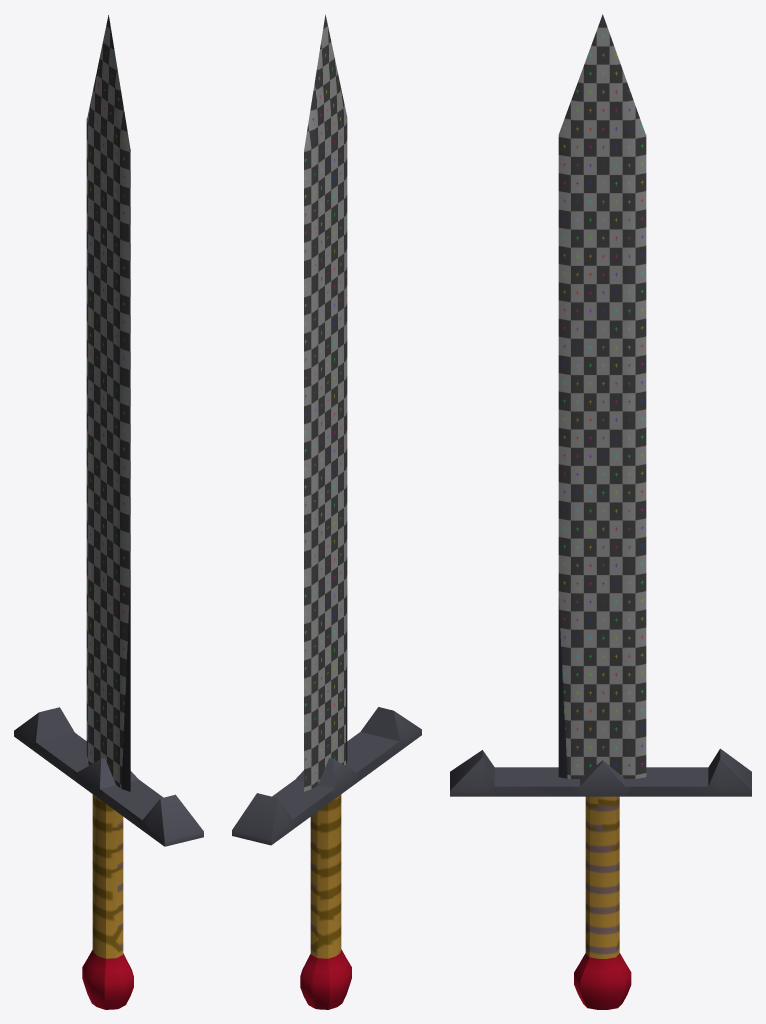
The model's file is blueSwordWithTexture.fbx.
3 views of the same model, side by side, from view 1: azimuth 30°, elevation 25°; view 2: azimuth 150°, elevation 25°; view 3: azimuth 270°, elevation 25° (orthographic).
Parts seen in each view (by area): view 1: Cube; view 2: Cube; view 3: Cube.
Boxes of the visible parts, x1,y1,x2,y2 form: Cube: (14,15,203,1009); Cube: (232,14,421,1009); Cube: (450,14,751,1009).
Size of the model in its own units: 206 by 4819 by 1332.
Materials: 1 (1 with a texture image).
